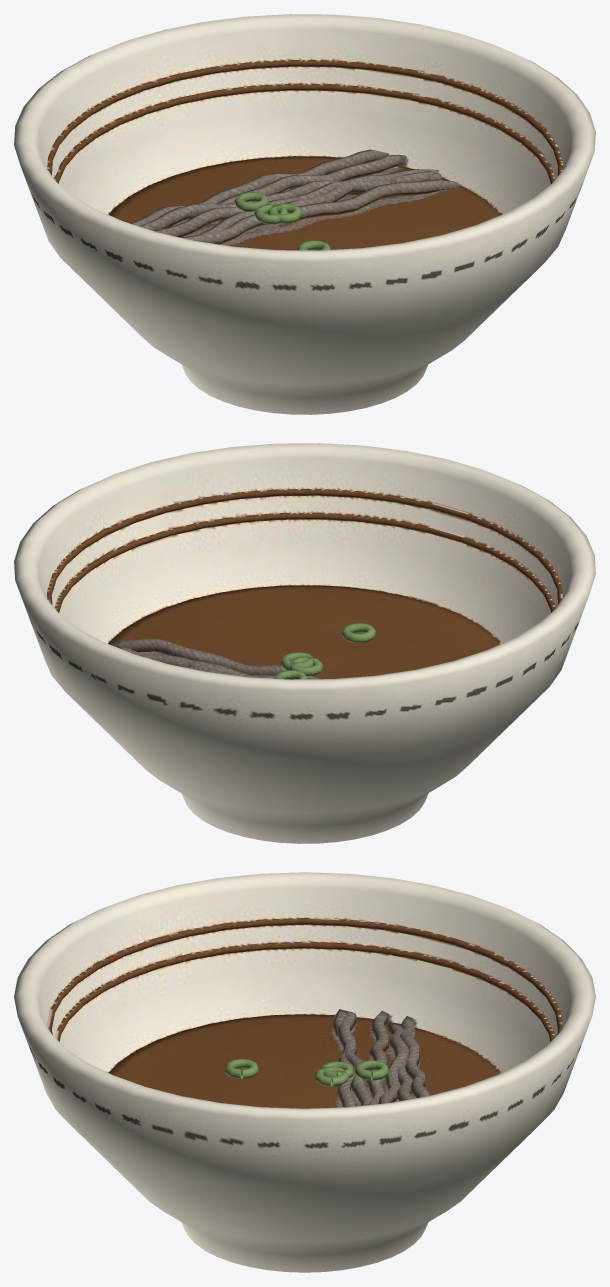
The model's file is soba_b2.glb.
3 renders of one model, top to bottom at view 1: azimuth 30°, elevation 25°; view 2: azimuth 150°, elevation 25°; view 3: azimuth 270°, elevation 25°, orthographic.
Visible parts, largest first — view 1: prop_soba_b2_felt; view 2: prop_soba_b2_felt; view 3: prop_soba_b2_felt.
Part boxes in pixels (bbox=[...]): prop_soba_b2_felt: bbox=[14, 14, 595, 414]; prop_soba_b2_felt: bbox=[14, 443, 595, 843]; prop_soba_b2_felt: bbox=[14, 872, 595, 1272].
Size of the model in its own units: 0.3 by 0.1305 by 0.3.
1 material, 1 textured.
